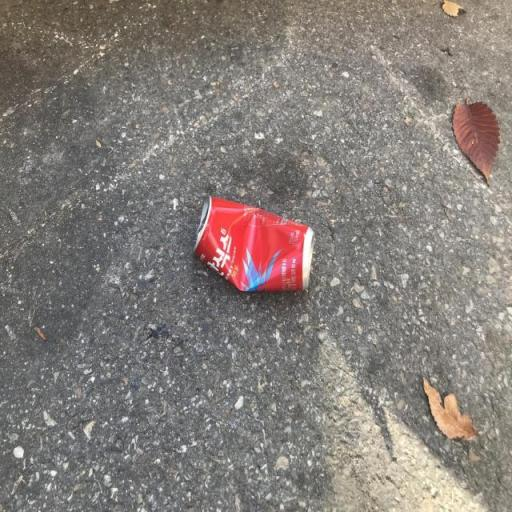metal: (180, 173, 326, 311)
